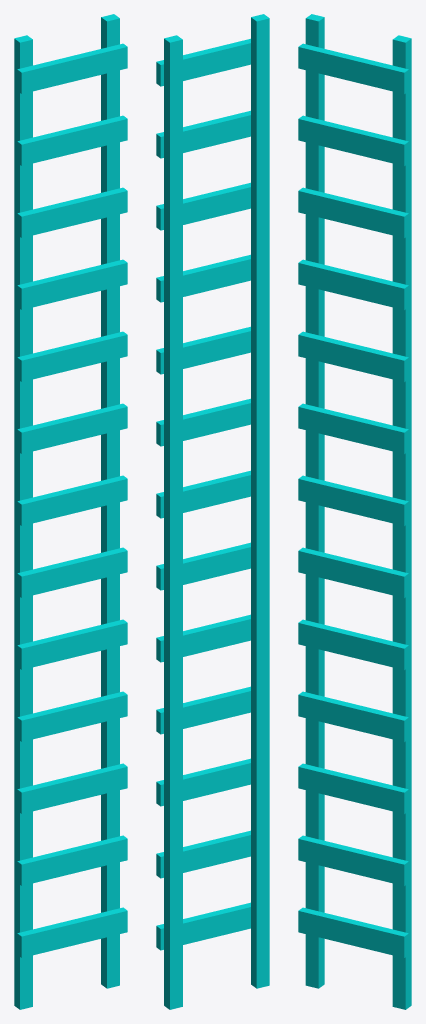
Rendered from SM_Windmill_Wood_stair_01.fbx.
3 renders of one model, left to right at view 1: azimuth 30°, elevation 25°; view 2: azimuth 210°, elevation 25°; view 3: azimuth 330°, elevation 25°, orthographic.
Visible parts, largest first — view 1: SM_Windmill_Wood_stair_01; view 2: SM_Windmill_Wood_stair_01; view 3: SM_Windmill_Wood_stair_01.
Boxes of the visible parts, x1,y1,x2,y2 form: SM_Windmill_Wood_stair_01: (14, 14, 127, 1009); SM_Windmill_Wood_stair_01: (156, 14, 269, 1009); SM_Windmill_Wood_stair_01: (298, 14, 411, 1009).
Size of the model in its own units: 64.76 by 564 by 11.07.
